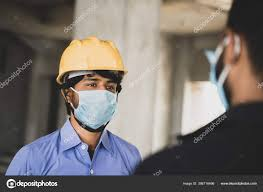Helmet: (53, 36, 130, 83)
Mask: (66, 91, 123, 128)
No-jacket: (14, 131, 136, 179)
